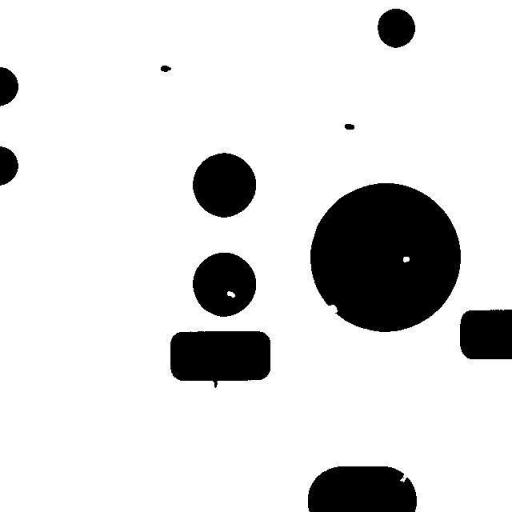copper: (154, 58, 178, 78), (338, 118, 360, 135)
mousebite: (392, 466, 414, 489), (322, 298, 343, 320)
pin-hole: (221, 285, 241, 303), (397, 250, 415, 268)
spur: (202, 369, 224, 394)
